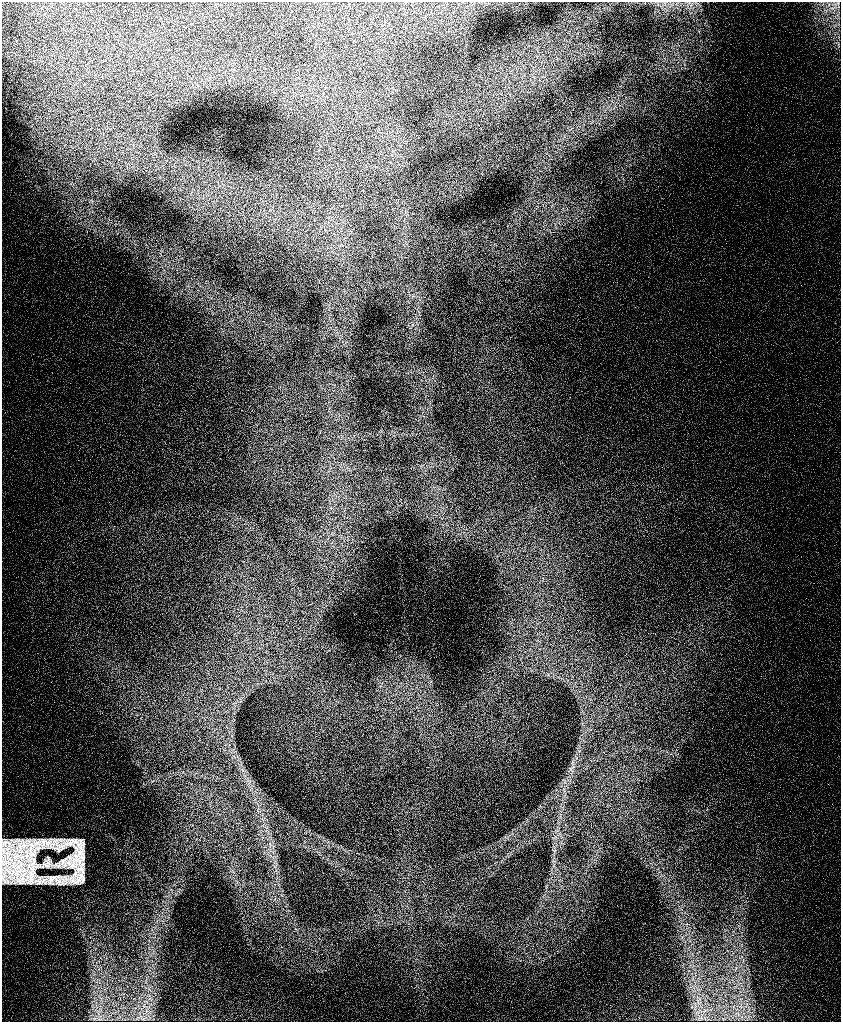lumbar scoliosis: (287, 89, 497, 584)
